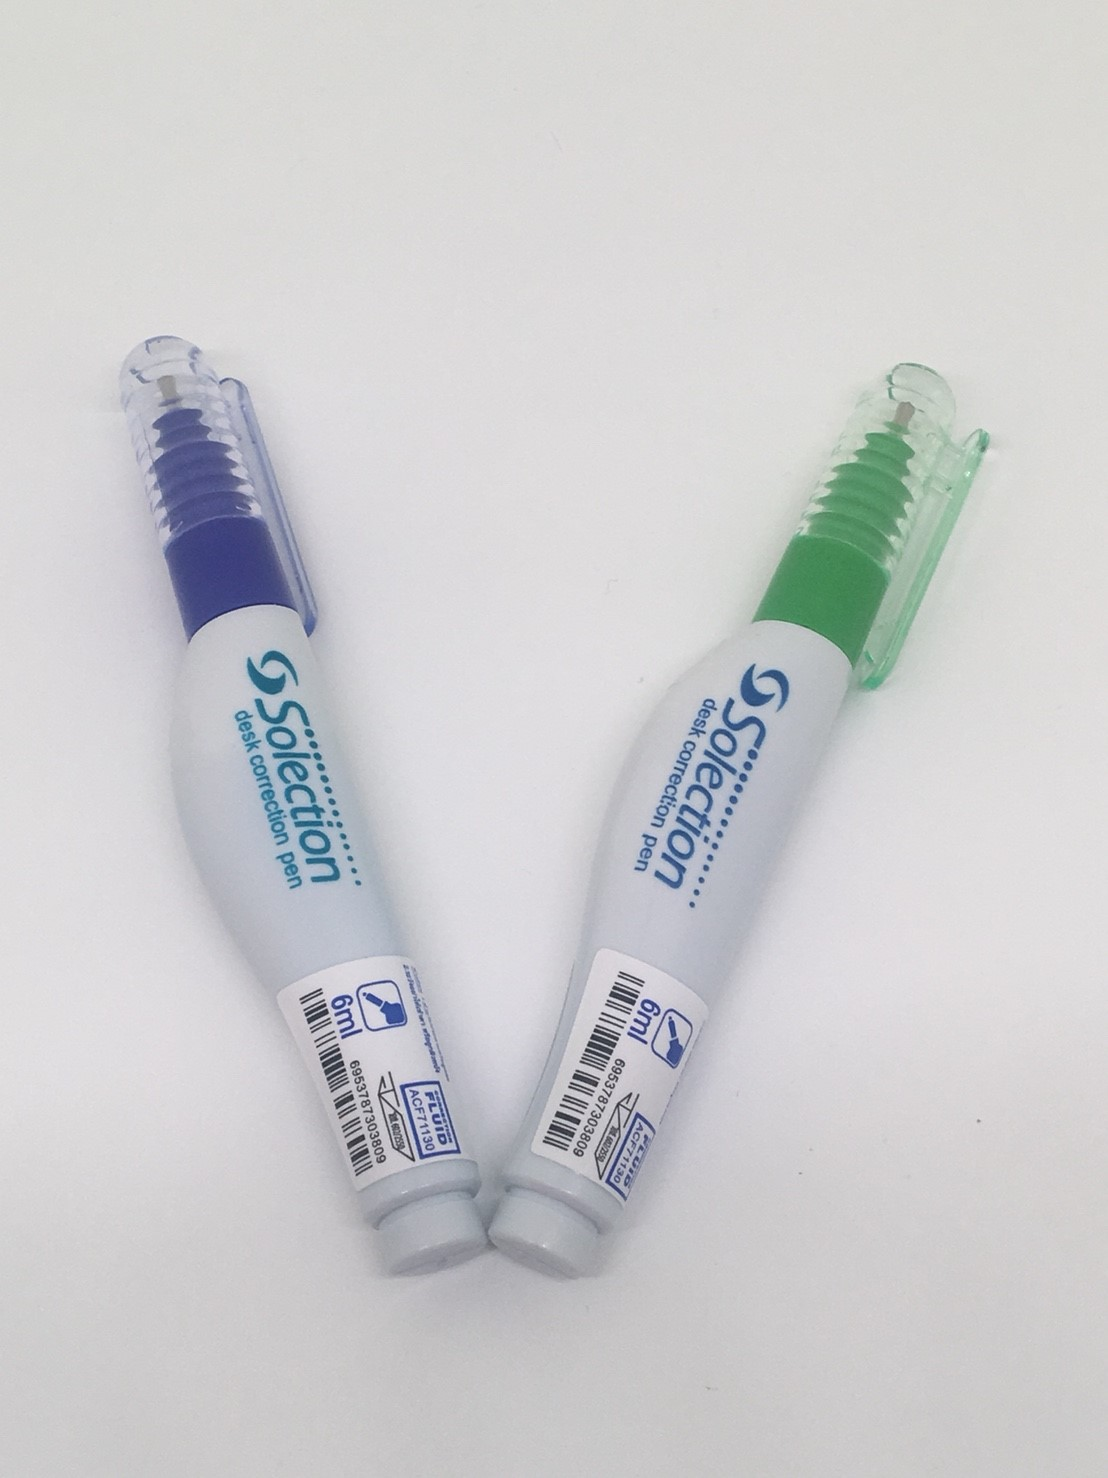Correction_fluid: (478, 340, 1009, 1278), (97, 321, 493, 1292)
